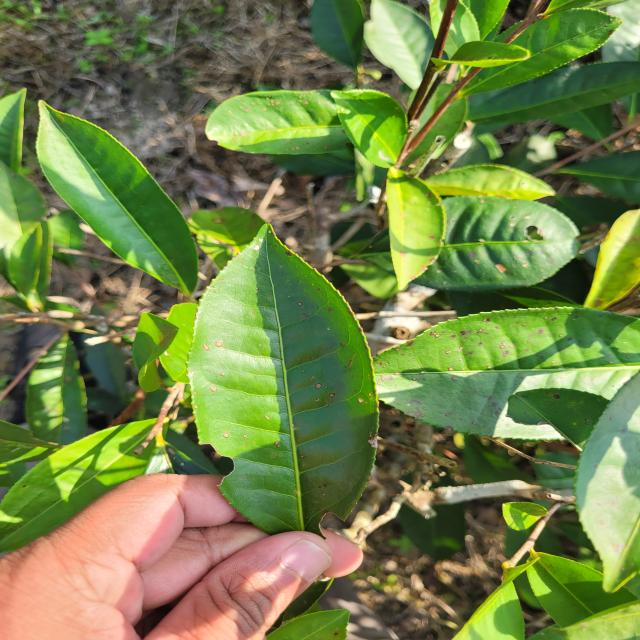Category D(7+ days, Not for Tea): (168, 213, 406, 545)
